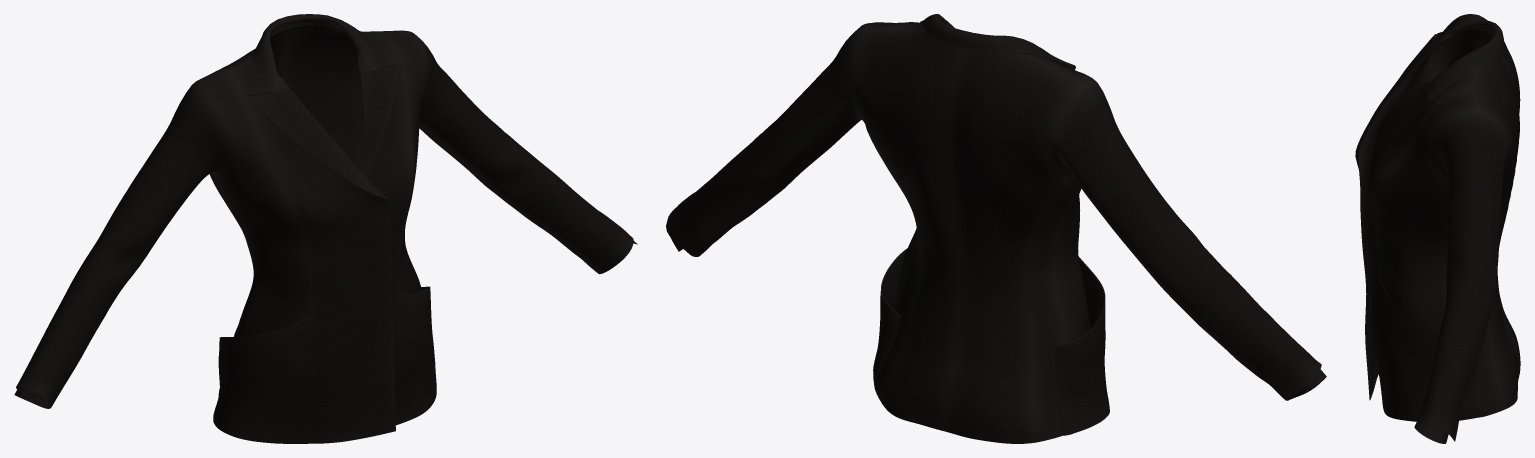
Rendered from DiorBlazer_Export.obj.
3 views of the same model, side by side, from view 1: azimuth 30°, elevation 25°; view 2: azimuth 150°, elevation 25°; view 3: azimuth 270°, elevation 25° (orthographic). The views are drawn at different scales.
Parts seen in each view (by area): view 1: Blazer_Z_Final; view 2: Blazer_Z_Final; view 3: Blazer_Z_Final.
Part boxes in pixels (box(x1,y1,x2,y2)): Blazer_Z_Final: box(14, 14, 637, 443); Blazer_Z_Final: box(666, 14, 1326, 443); Blazer_Z_Final: box(1355, 14, 1520, 443).
Bounding box in the file's own units: 105 × 61.25 × 25.91.
